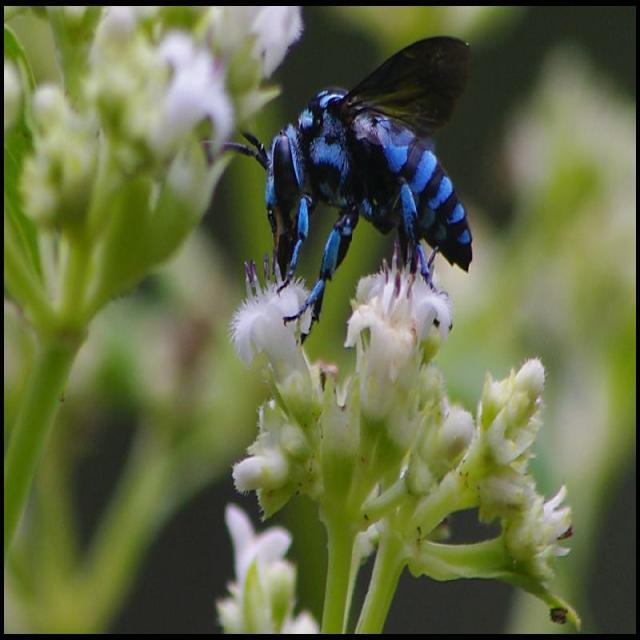Xylocopa: (212, 26, 486, 336)
